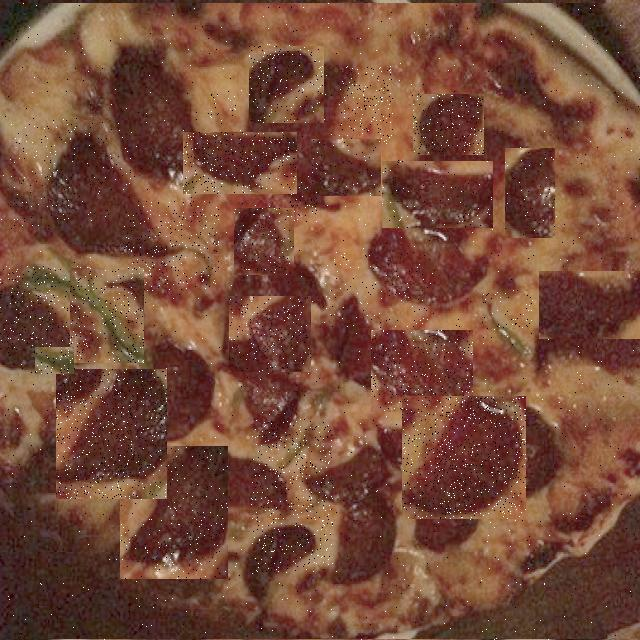Green Pepper: (70, 268, 144, 363), (482, 290, 532, 338), (285, 175, 318, 222), (35, 347, 74, 374), (208, 92, 236, 124)
Pepperoni: (402, 396, 526, 519), (56, 369, 167, 499), (120, 446, 228, 579), (10, 118, 132, 230), (252, 419, 333, 573), (324, 250, 436, 328), (123, 201, 219, 291), (371, 330, 473, 412), (0, 266, 92, 353), (382, 161, 493, 228), (183, 132, 297, 194), (539, 271, 640, 339), (229, 296, 311, 372), (250, 46, 326, 123), (505, 148, 555, 238), (414, 94, 486, 155), (340, 66, 393, 142), (234, 208, 294, 275), (311, 139, 381, 196)
Pizza: (0, 3, 640, 640)
